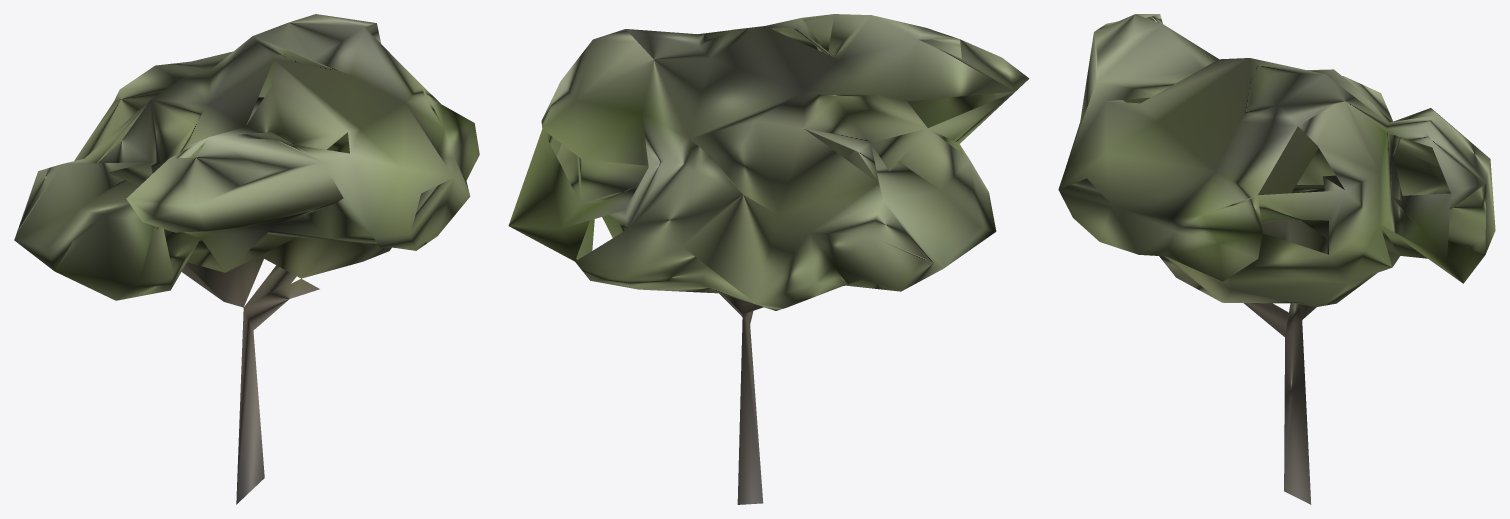
Rendered from birch_far.glb.
The picture shows the model from 3 angles, left to right: view 1: azimuth 30°, elevation 25°; view 2: azimuth 150°, elevation 25°; view 3: azimuth 270°, elevation 25°; orthographic projection.
Parts seen in each view (by area): view 1: birch; view 2: birch; view 3: birch.
Boxes of the visible parts, box(x1,y1,x2,y2) form: birch: box(14, 14, 479, 504); birch: box(508, 14, 1029, 504); birch: box(1058, 14, 1495, 504).
Bounding box in the file's own units: 0.9578 × 1 × 0.8765.
